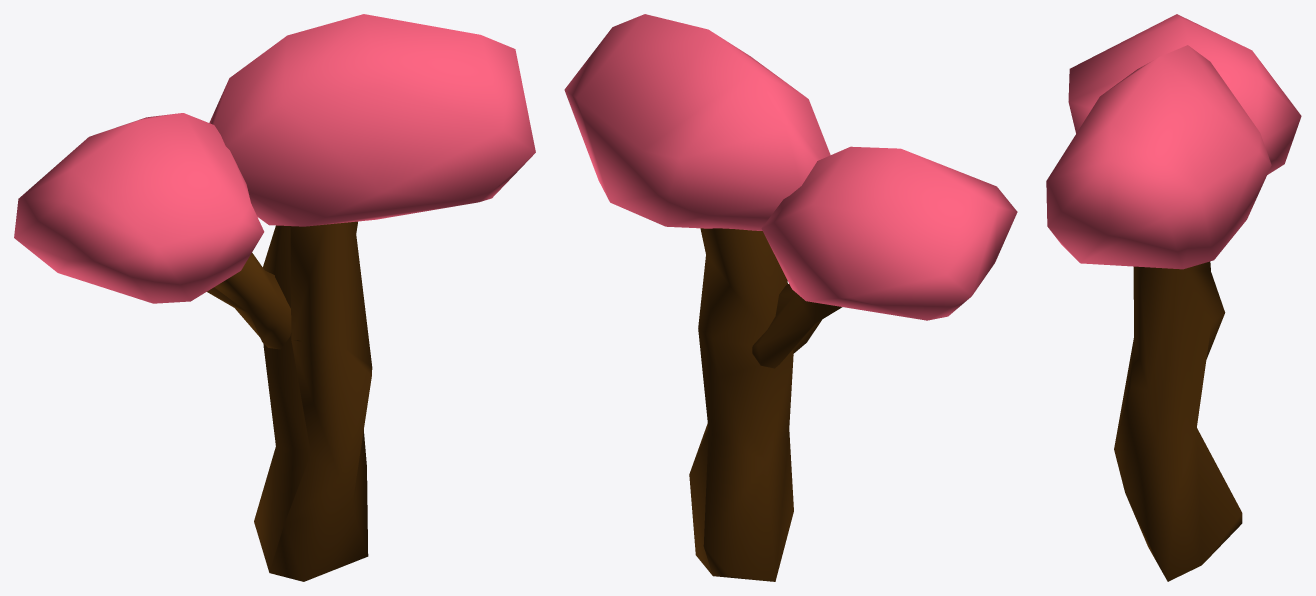
File: Tree2.fbx
3 views of the same model, side by side, from view 1: azimuth 30°, elevation 25°; view 2: azimuth 150°, elevation 25°; view 3: azimuth 270°, elevation 25° (orthographic). The views are drawn at different scales.
Visible parts, largest first — view 1: Box003, Box002, Cylinder004, Cylinder005; view 2: Box003, Box002, Cylinder004, Cylinder005; view 3: Box003, Cylinder004, Box002.
Boxes of the visible parts, x1=… form: Box003: x1=209, y1=14, x2=535, y2=226; Box002: x1=14, y1=113, x2=264, y2=303; Cylinder004: x1=254, y1=221, x2=372, y2=581; Cylinder005: x1=207, y1=253, x2=291, y2=349; Box003: x1=564, y1=14, x2=830, y2=230; Box002: x1=761, y1=146, x2=1017, y2=320; Cylinder004: x1=689, y1=228, x2=793, y2=581; Cylinder005: x1=752, y1=284, x2=842, y2=368; Box003: x1=1046, y1=45, x2=1271, y2=269; Cylinder004: x1=1114, y1=261, x2=1242, y2=581; Box002: x1=1068, y1=14, x2=1301, y2=174.
Size of the model in its own units: 67.29 by 76.75 by 34.08.
Materials: 1 (1 with a texture image).
